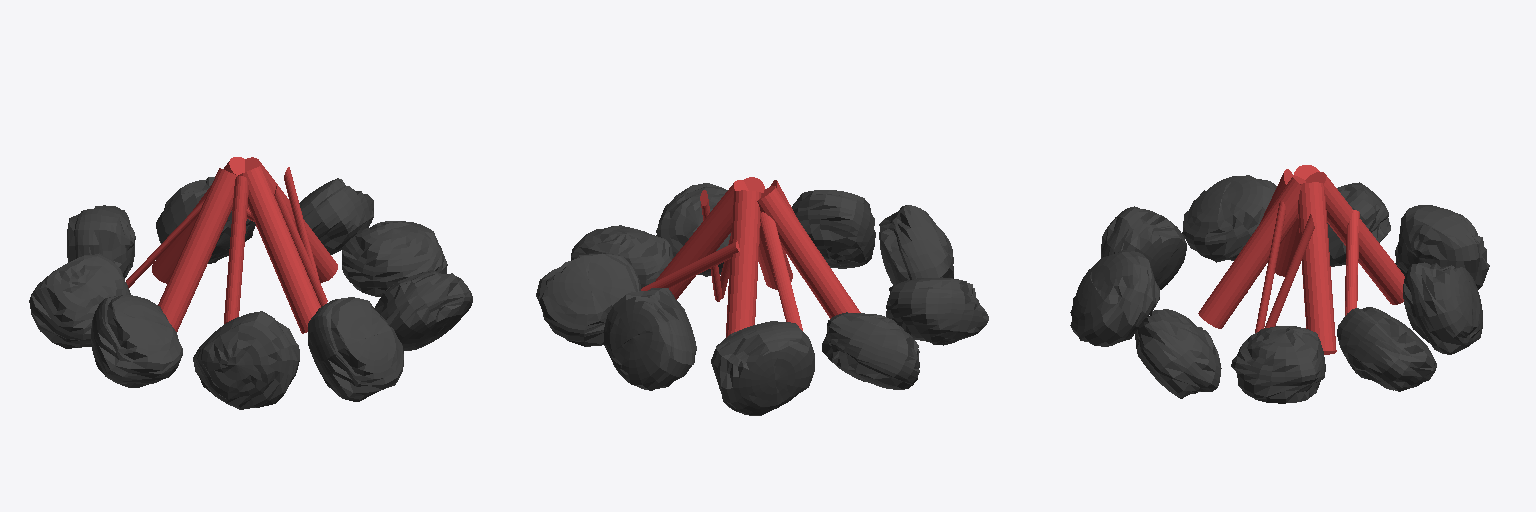
The model's file is Shadow_Valley_Lagerfeuer.obj.
3 renders of one model, left to right at view 1: azimuth 30°, elevation 25°; view 2: azimuth 150°, elevation 25°; view 3: azimuth 270°, elevation 25°, orthographic.
Parts seen in each view (by area): view 1: stein, holz; view 2: stein, holz; view 3: stein, holz.
Boxes of the visible parts, x1=… form: stein: x1=29, y1=177, x2=472, y2=409; holz: x1=126, y1=157, x2=337, y2=333; stein: x1=536, y1=183, x2=988, y2=415; holz: x1=641, y1=177, x2=860, y2=337; stein: x1=1070, y1=175, x2=1489, y2=403; holz: x1=1198, y1=165, x2=1404, y2=354.
Bounding box in the file's own units: 3.59 × 1.52 × 3.52.